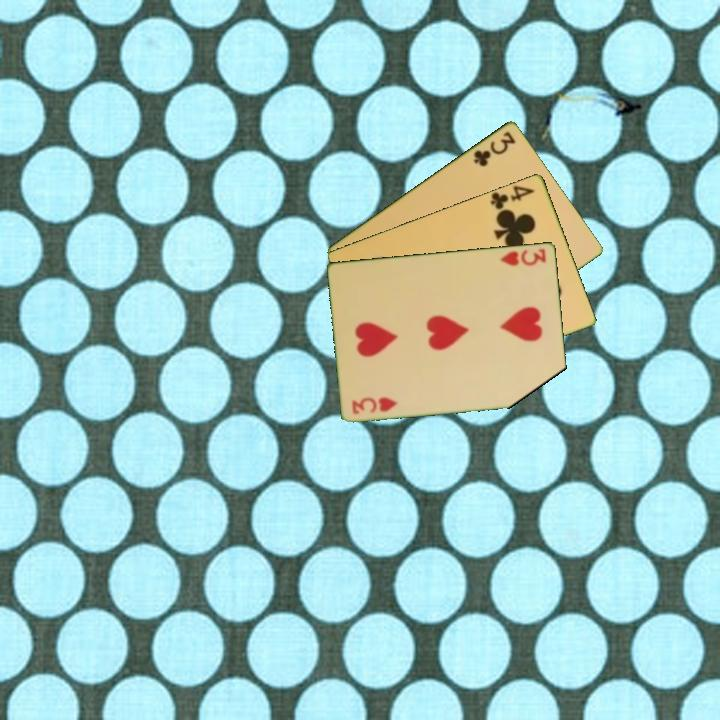3c: (470, 127, 519, 169)
3h: (349, 393, 400, 417), (496, 245, 549, 268)
4c: (487, 182, 537, 212)
